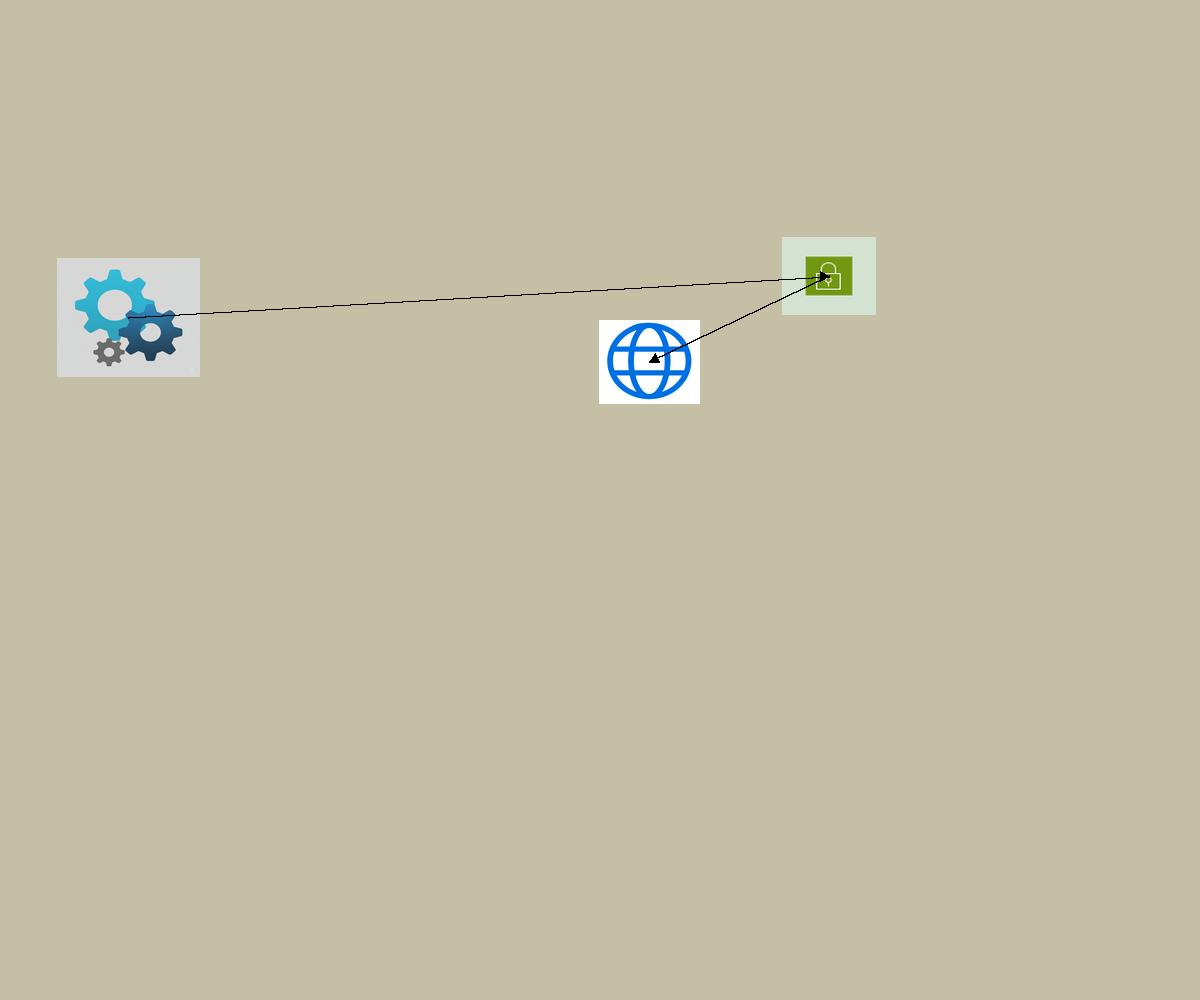AWS-Public-subnet: (782, 237, 876, 315)
Azure_api: (57, 258, 200, 377)
Azure_http: (599, 320, 700, 404)
